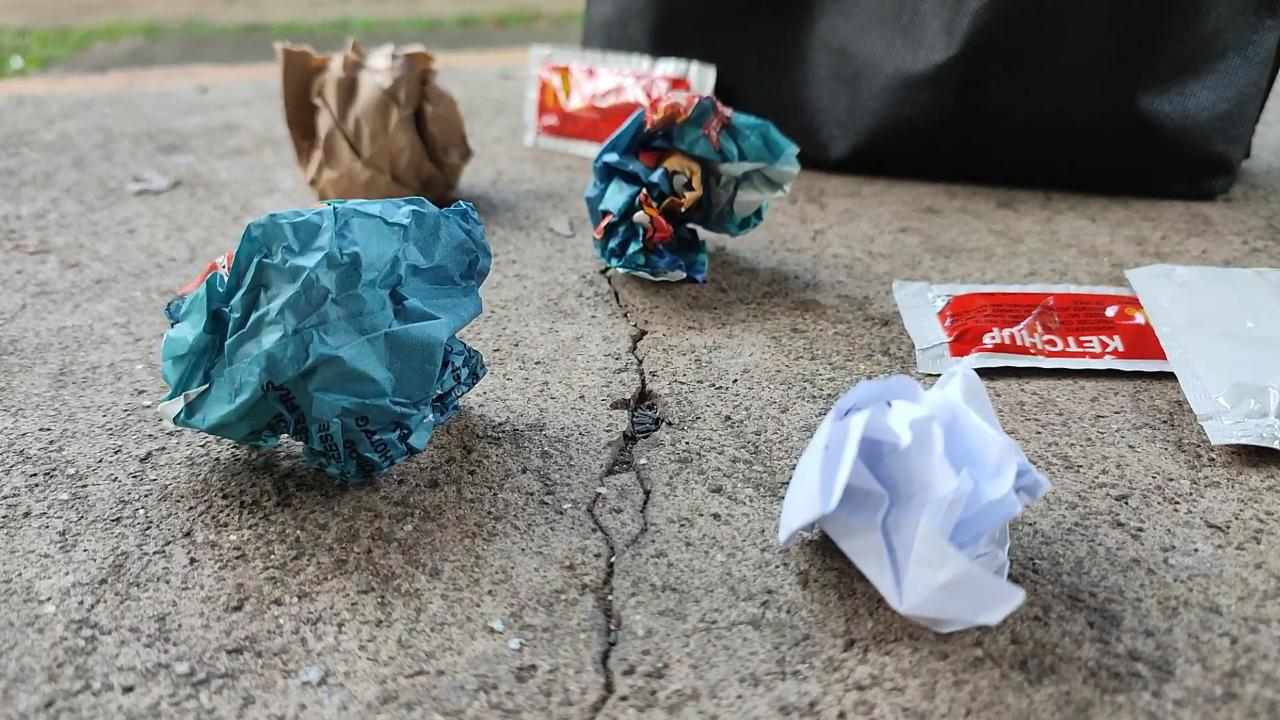Paper: (146, 189, 512, 492), (764, 354, 1048, 641), (582, 92, 809, 291), (269, 32, 497, 219)
